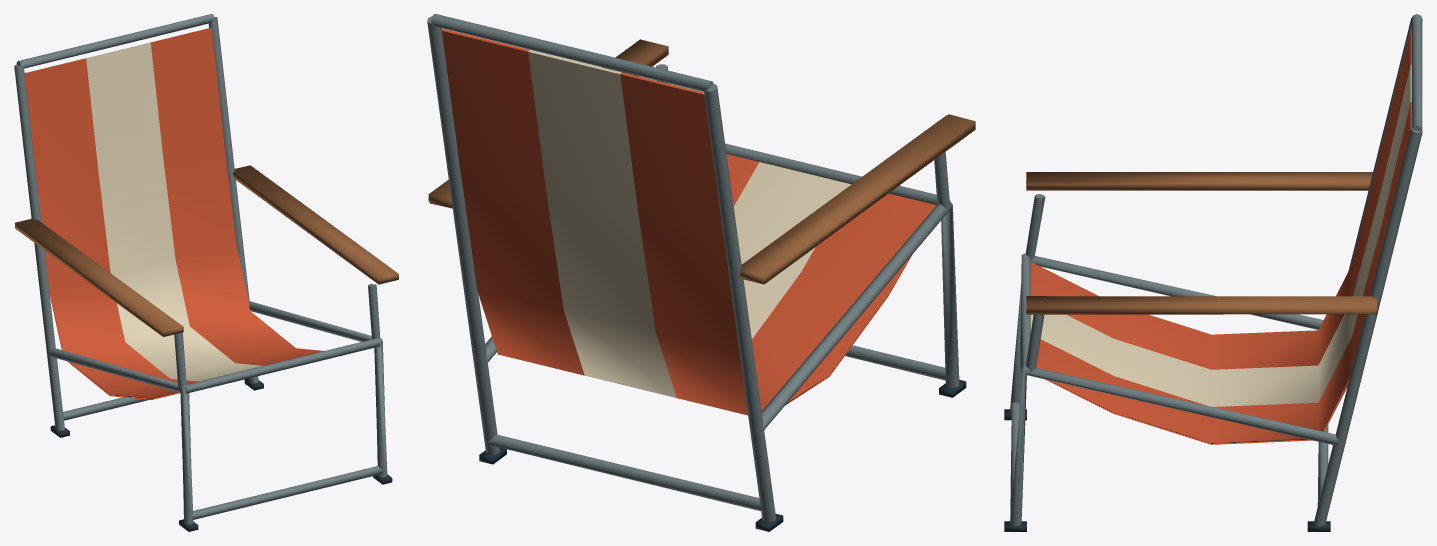
File: beachChair.glb
The picture shows the model from 3 angles, left to right: view 1: azimuth 30°, elevation 25°; view 2: azimuth 150°, elevation 25°; view 3: azimuth 270°, elevation 25°; orthographic projection. The views are drawn at different scales.
Parts seen in each view (by area): view 1: beachChair; view 2: beachChair; view 3: beachChair.
Boxes of the visible parts, left/top/right/bottom form: beachChair: left=14, top=14, right=398, bottom=531; beachChair: left=427, top=14, right=975, bottom=531; beachChair: left=1004, top=14, right=1422, bottom=531.
Bounding box in the file's own units: 0.6579 × 0.9094 × 0.8551.
